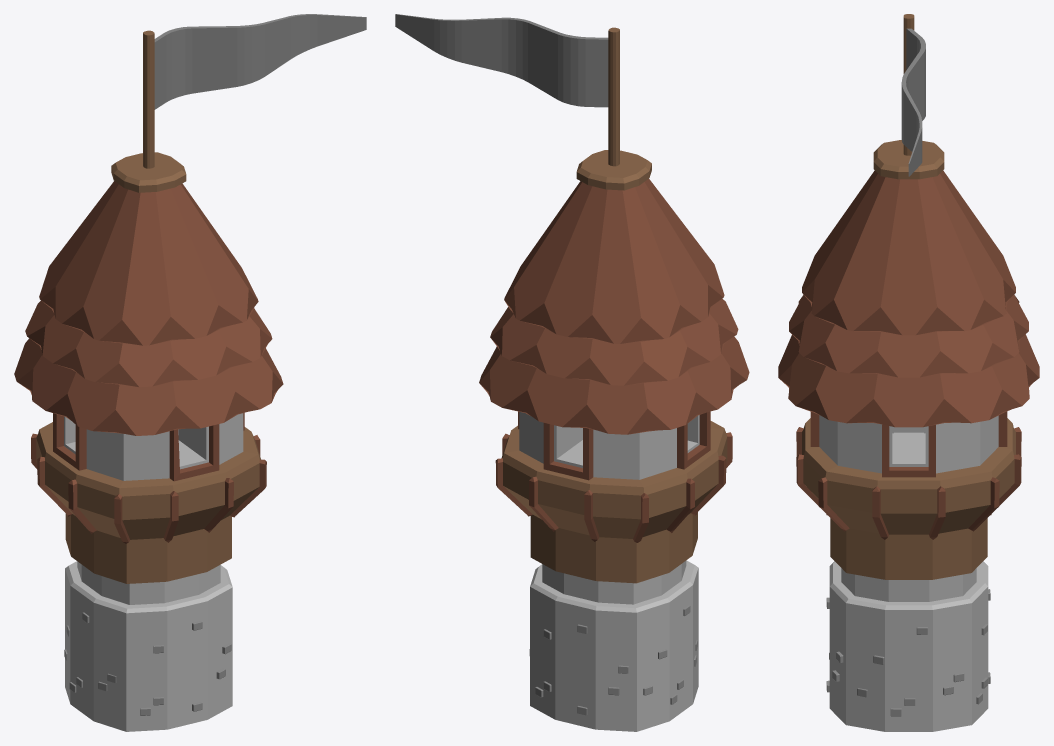
Rendered from castle-tower.fbx.
The picture shows the model from 3 angles, left to right: view 1: azimuth 30°, elevation 25°; view 2: azimuth 150°, elevation 25°; view 3: azimuth 270°, elevation 25°; orthographic projection. The views are drawn at different scales.
Visible parts, largest first — view 1: Cube.090; view 2: Cube.090; view 3: Cube.090.
Boxes of the visible parts, x1=… form: Cube.090: x1=14, y1=14, x2=366, y2=731; Cube.090: x1=395, y1=14, x2=749, y2=731; Cube.090: x1=778, y1=14, x2=1039, y2=731.
Size of the model in its own units: 2299 by 4447 by 1543.
